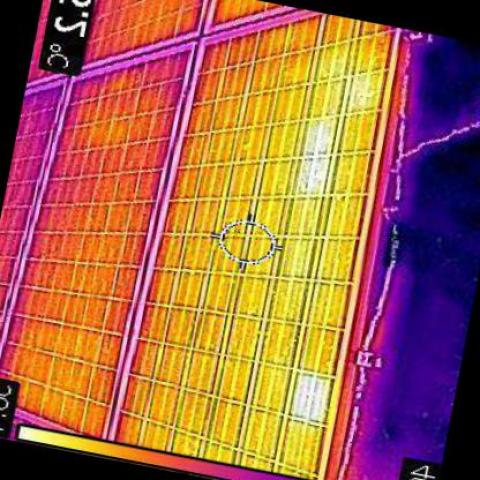fault: (304, 124, 334, 190), (296, 370, 331, 420)
